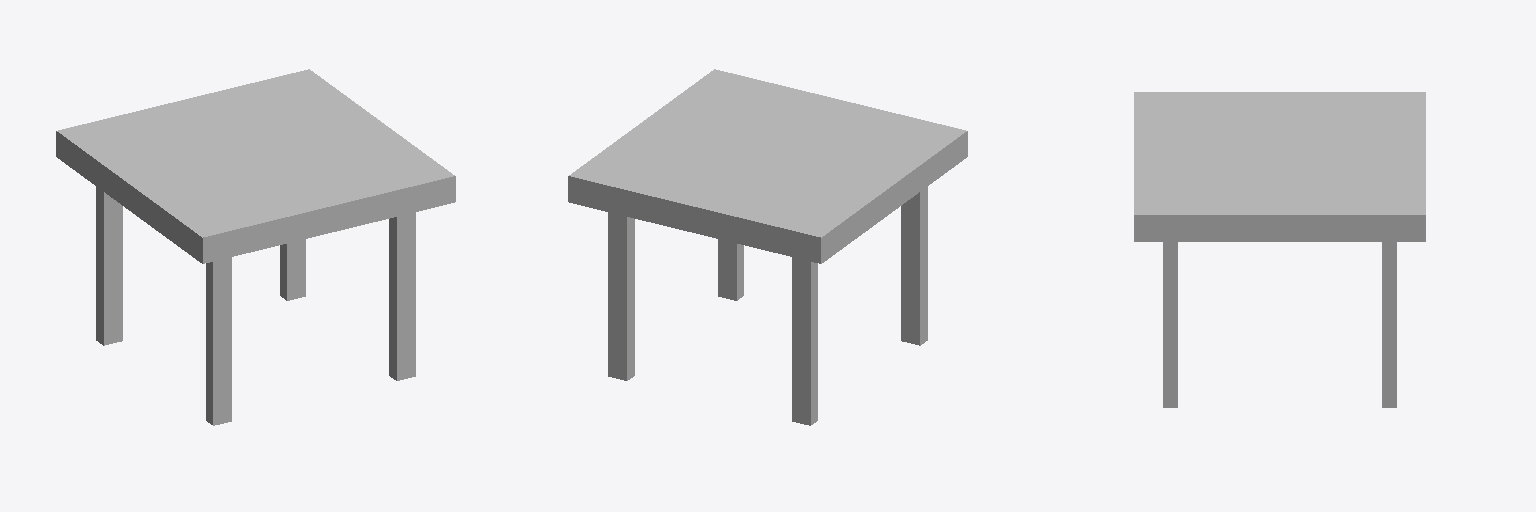
The model's file is end.obj.
3 views of the same model, side by side, from view 1: azimuth 30°, elevation 25°; view 2: azimuth 150°, elevation 25°; view 3: azimuth 270°, elevation 25° (orthographic).
Size of the model in its own units: 40 by 31 by 40.